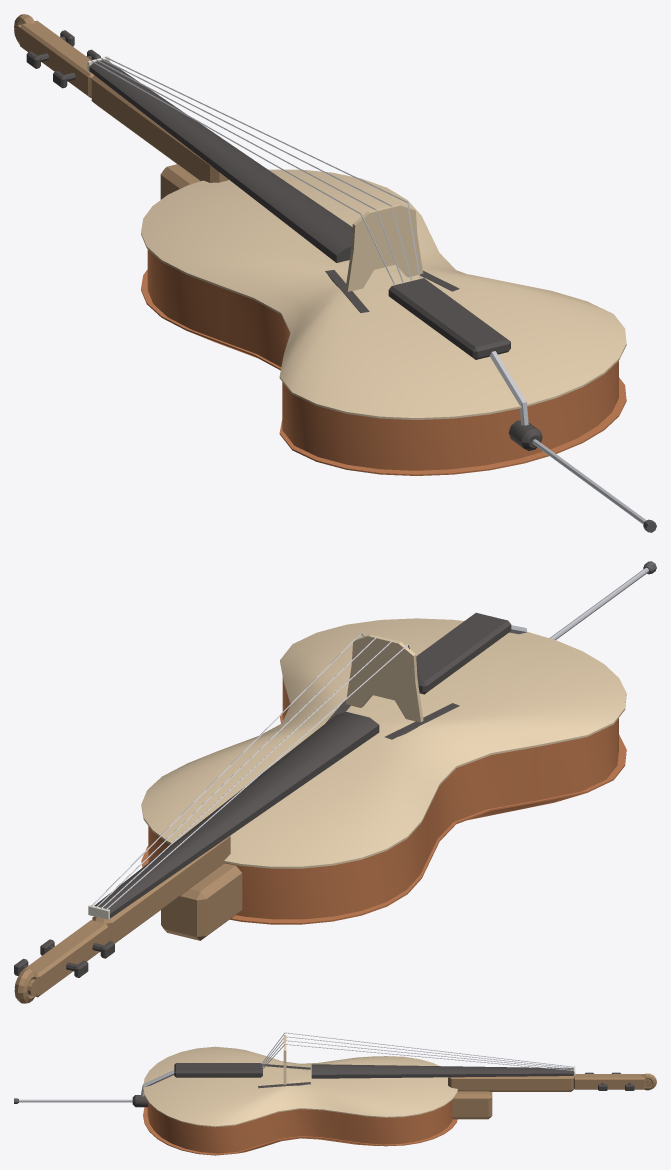
File: orchestra-and-band-instruments-double-bass-93058ab0__39285.glb
3 views of the same model, one above another, from view 1: azimuth 30°, elevation 25°; view 2: azimuth 150°, elevation 25°; view 3: azimuth 270°, elevation 25° (orthographic). The views are drawn at different scales.
Parts seen in each view (by area): view 1: double-bass; view 2: double-bass; view 3: double-bass.
Boxes of the visible parts, <box> form: double-bass: <box>14,14,656,532</box>; double-bass: <box>14,561,656,1003</box>; double-bass: <box>14,1032,656,1155</box>.
Bounding box in the file's own units: 0.6793 × 0.3504 × 2.32.
